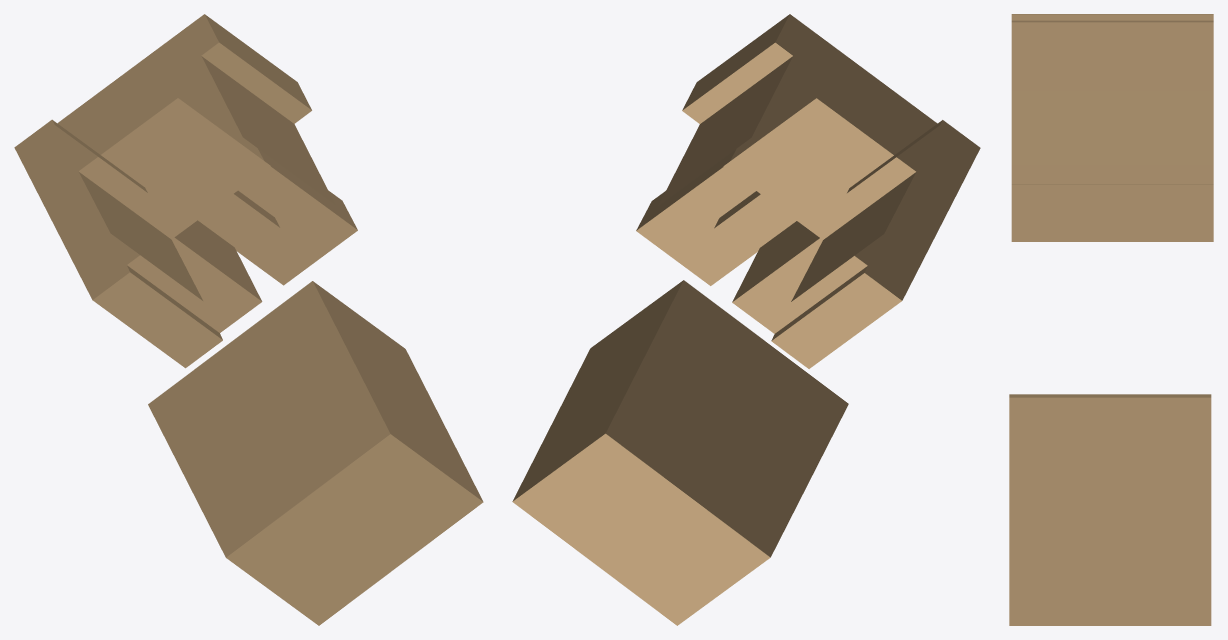
3 views of the same model, side by side, from view 1: azimuth 30°, elevation 25°; view 2: azimuth 150°, elevation 25°; view 3: azimuth 270°, elevation 25° (orthographic). The views are drawn at different scales.
Parts seen in each view (by area): view 1: 0_1_0_2_1_3_3_0; view 2: 0_1_0_2_1_3_3_0; view 3: 0_1_0_2_1_3_3_0.
Part boxes in pixels (left/top/right/bottom): 0_1_0_2_1_3_3_0: left=14, top=14, right=483, bottom=625; 0_1_0_2_1_3_3_0: left=512, top=14, right=980, bottom=625; 0_1_0_2_1_3_3_0: left=1009, top=14, right=1213, bottom=625.
Bounding box in the file's own units: 62.82 × 87.68 × 27.3.
